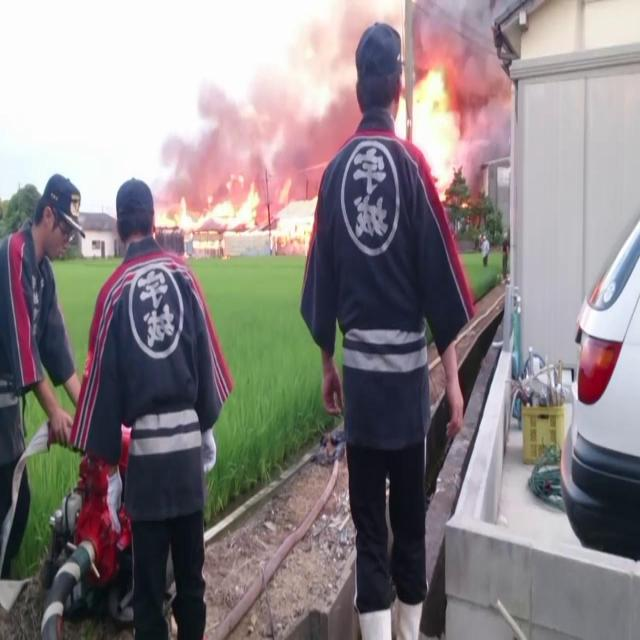Fire: (397, 71, 459, 197), (174, 176, 258, 231), (268, 186, 318, 244)
